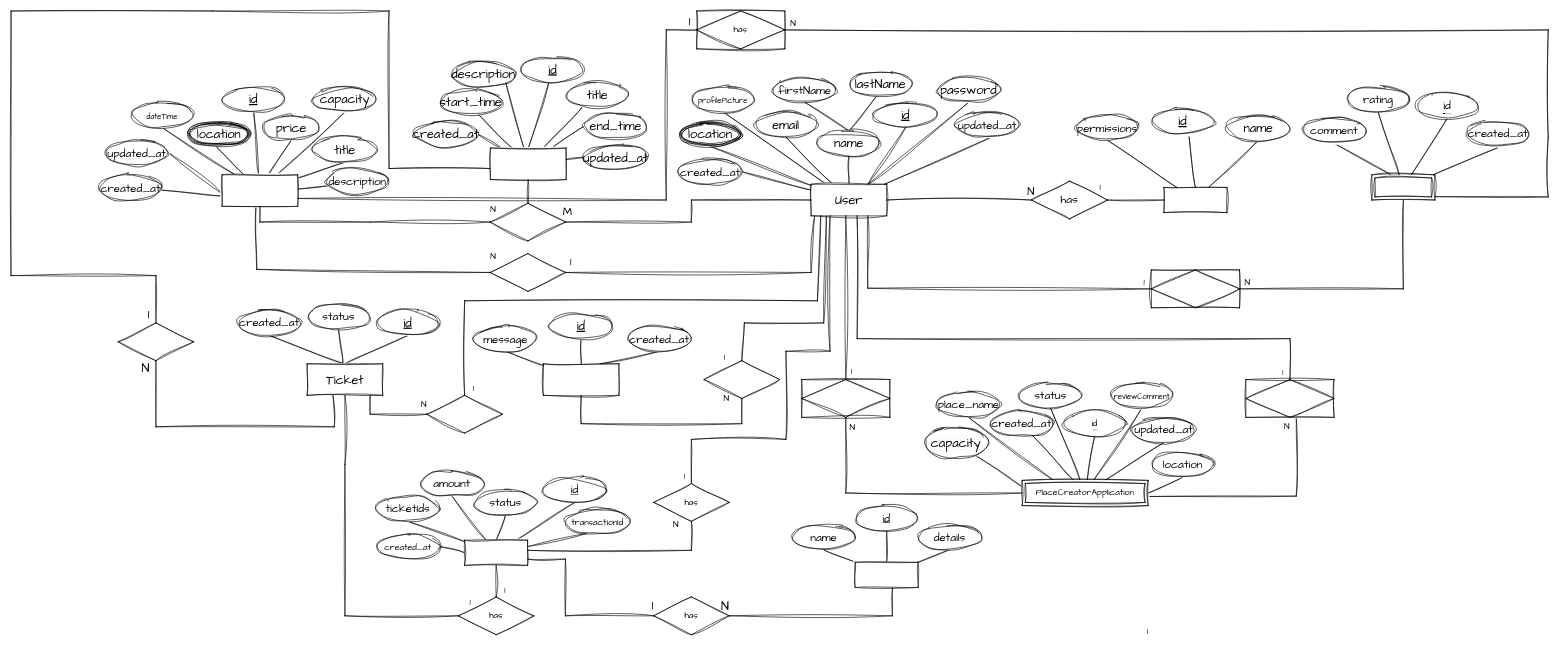
The diagram is 1560 pixels wide and 649 high, and some of its shapes have lost their labels. Here are the shapes that lost their labels. From the top down, the centre of each, then its label:
At (528,163): "Event".
At (259,190): "Place".
At (1195,200): "Role".
At (1403,187): "Review".
At (528,222): "book".
At (528,272): "manage".
At (1195,288): "add".
At (155,341): "contains".
At (581,379): "Notification".
At (741,379): "recived".
At (845,398): "applay".
At (1289,398): "approve".
At (464,414): "buy".
At (496,552): "Invoice".
At (886,574): "paymentMethod".
